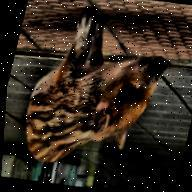boar: (0, 0, 185, 188)
